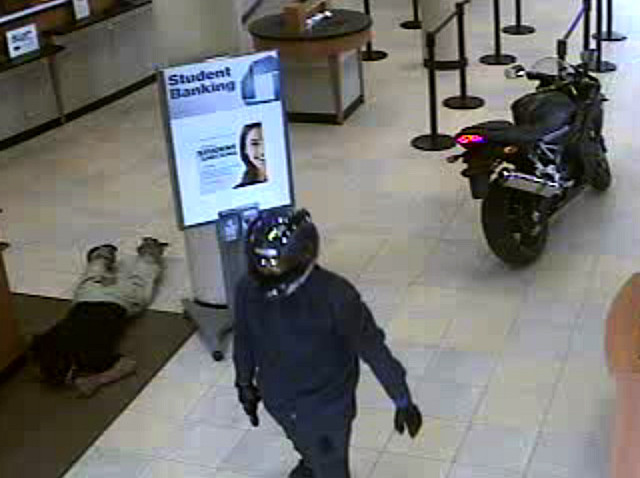Helmet: (238, 205, 344, 293)
gun: (223, 389, 273, 436)
motorcycle: (420, 42, 624, 279)
